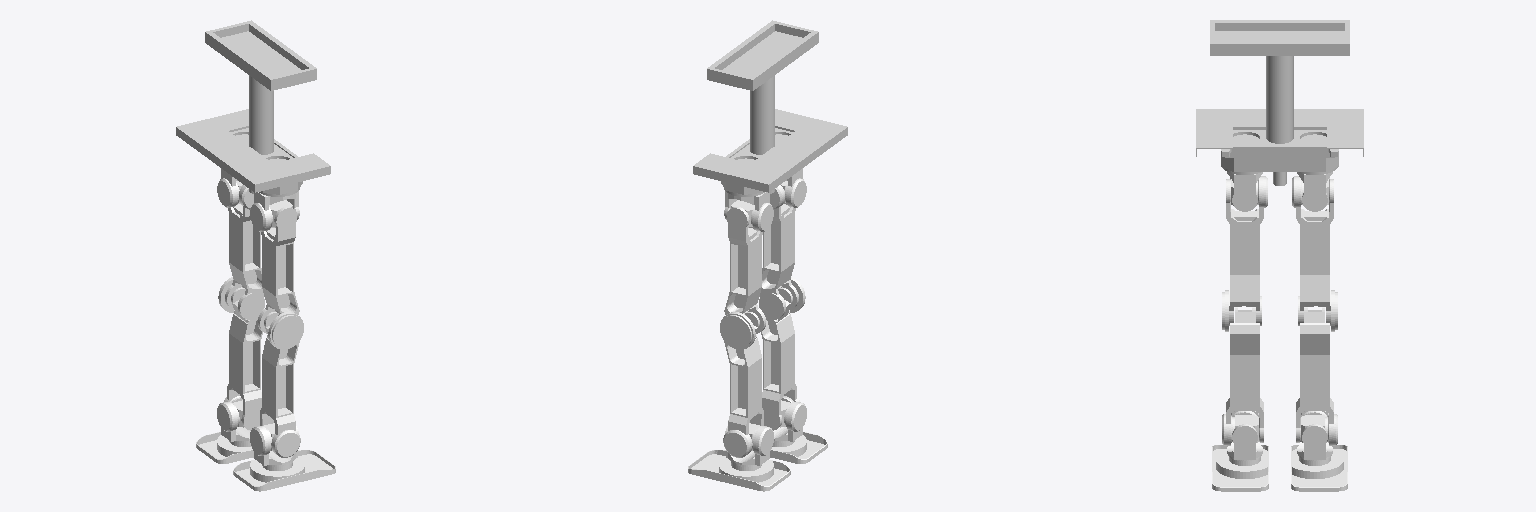
robot.urdf — YSTLEG:
<?xml version="1.0"?>
<robot name="YSTLEG"
       xmlns:xi="http://www.w3.org/2001/XInclude"
       >
  <link name="BODY">
    <visual>
      <origin xyz="0 0 0.8215" rpy="0 -0 0"/>
      <geometry>
        <mesh filename="package://hrpsys_ros_bridge_tutorials/models/YSTLEG_meshes/BODY_mesh.dae" scale="1 1 1" />
      </geometry>
    </visual>
    <collision>
      <origin xyz="0 0 0.8215" rpy="0 -0 0"/>
      <geometry>
        <mesh filename="package://hrpsys_ros_bridge_tutorials/models/YSTLEG_meshes/BODY_mesh.dae" scale="1 1 1" />
      </geometry>
    </collision>
    <inertial>
      <mass value="13.053" />
      <origin xyz="0.00262 -0.0022 0.08295" rpy="0 -0 0"/>
      <inertia ixx="0.362123" ixy="-0.00108" ixz="0.018837" iyy="0.285097" iyz="-0.01338" izz="0.118847"/>
    </inertial>
  </link>
  <gazebo reference="BODY">
    <mu1>0.9</mu1>
    <mu2>0.9</mu2>
  </gazebo>
  <link name="LLEG_LINK0">
    <visual>
      <origin xyz="0 0.08 -0.1255" rpy="0 -0 0"/>
      <geometry>
        <mesh filename="package://hrpsys_ros_bridge_tutorials/models/YSTLEG_meshes/LLEG_LINK0_mesh.dae" scale="1 1 1" />
      </geometry>
    </visual>
    <collision>
      <origin xyz="0 0.08 -0.1255" rpy="0 -0 0"/>
      <geometry>
        <mesh filename="package://hrpsys_ros_bridge_tutorials/models/YSTLEG_meshes/LLEG_LINK0_mesh.dae" scale="1 1 1" />
      </geometry>
    </collision>
    <inertial>
      <mass value="0.965961" />
      <origin xyz="-0.0250761 0.025239 0.022762" rpy="0 -0 0"/>
      <inertia ixx="0.003171" ixy="-0.000746" ixz="-0.000358" iyy="0.002687" iyz="0.000752" izz="0.003681"/>
    </inertial>
  </link>
  <gazebo reference="LLEG_LINK0">
    <mu1>0.9</mu1>
    <mu2>0.9</mu2>
  </gazebo>
  <link name="LLEG_LINK1">
    <visual>
      <origin xyz="0 0 0" rpy="0 -0 0"/>
      <geometry>
        <mesh filename="package://hrpsys_ros_bridge_tutorials/models/YSTLEG_meshes/LLEG_LINK1_mesh.dae" scale="1 1 1" />
      </geometry>
    </visual>
    <collision>
      <origin xyz="0 0 0" rpy="0 -0 0"/>
      <geometry>
        <mesh filename="package://hrpsys_ros_bridge_tutorials/models/YSTLEG_meshes/LLEG_LINK1_mesh.dae" scale="1 1 1" />
      </geometry>
    </collision>
    <inertial>
      <mass value="0.199241" />
      <origin xyz="8e-08 0.00338762 5.55112e-17" rpy="0 -0 0"/>
      <inertia ixx="0.000106" ixy="0" ixz="0" iyy="0.000119" iyz="0" izz="0.000151"/>
    </inertial>
  </link>
  <gazebo reference="LLEG_LINK1">
    <mu1>0.9</mu1>
    <mu2>0.9</mu2>
  </gazebo>
  <link name="LLEG_LINK2">
    <visual>
      <origin xyz="0 0 0" rpy="0 -0 0"/>
      <geometry>
        <mesh filename="package://hrpsys_ros_bridge_tutorials/models/YSTLEG_meshes/LLEG_LINK2_mesh.dae" scale="1 1 1" />
      </geometry>
    </visual>
    <collision>
      <origin xyz="0 0 0" rpy="0 -0 0"/>
      <geometry>
        <mesh filename="package://hrpsys_ros_bridge_tutorials/models/YSTLEG_meshes/LLEG_LINK2_mesh.dae" scale="1 1 1" />
      </geometry>
    </collision>
    <inertial>
      <mass value="2.83852" />
      <origin xyz="0.00726726 0.00769218 -0.183034" rpy="0 -0 0"/>
      <inertia ixx="0.135308" ixy="0.000616" ixz="-0.005472" iyy="0.134398" iyz="-0.010481" izz="0.006904"/>
    </inertial>
  </link>
  <gazebo reference="LLEG_LINK2">
    <mu1>0.9</mu1>
    <mu2>0.9</mu2>
  </gazebo>
  <link name="LLEG_LINK3">
    <visual>
      <origin xyz="0 0 -0.3" rpy="0 -0 0"/>
      <geometry>
        <mesh filename="package://hrpsys_ros_bridge_tutorials/models/YSTLEG_meshes/LLEG_LINK3_mesh.dae" scale="1 1 1" />
      </geometry>
    </visual>
    <collision>
      <origin xyz="0 0 -0.3" rpy="0 -0 0"/>
      <geometry>
        <mesh filename="package://hrpsys_ros_bridge_tutorials/models/YSTLEG_meshes/LLEG_LINK3_mesh.dae" scale="1 1 1" />
      </geometry>
    </collision>
    <inertial>
      <mass value="1.98982" />
      <origin xyz="0.0336965 0.00823049 -0.157839" rpy="0 -0 0"/>
      <inertia ixx="0.07109" ixy="0.000354" ixz="-0.006236" iyy="0.074805" iyz="-0.004063" izz="0.007001"/>
    </inertial>
  </link>
  <gazebo reference="LLEG_LINK3">
    <mu1>0.9</mu1>
    <mu2>0.9</mu2>
  </gazebo>
  <link name="LLEG_LINK4">
    <visual>
      <origin xyz="0 0 -0.3" rpy="0 -0 0"/>
      <geometry>
        <mesh filename="package://hrpsys_ros_bridge_tutorials/models/YSTLEG_meshes/LLEG_LINK4_mesh.dae" scale="1 1 1" />
      </geometry>
    </visual>
    <collision>
      <origin xyz="0 0 -0.3" rpy="0 -0 0"/>
      <geometry>
        <mesh filename="package://hrpsys_ros_bridge_tutorials/models/YSTLEG_meshes/LLEG_LINK4_mesh.dae" scale="1 1 1" />
      </geometry>
    </collision>
    <inertial>
      <mass value="0.199241" />
      <origin xyz="-8e-08 -0.00338762 0" rpy="0 -0 0"/>
      <inertia ixx="0.000106" ixy="0" ixz="0" iyy="0.000119" iyz="0" izz="0.000151"/>
    </inertial>
  </link>
  <gazebo reference="LLEG_LINK4">
    <mu1>0.9</mu1>
    <mu2>0.9</mu2>
  </gazebo>
  <link name="LLEG_LINK5">
    <visual>
      <origin xyz="0 0 0" rpy="0 -0 0"/>
      <geometry>
        <mesh filename="package://hrpsys_ros_bridge_tutorials/models/YSTLEG_meshes/LLEG_LINK5_mesh.dae" scale="1 1 1" />
      </geometry>
    </visual>
    <collision>
      <origin xyz="0 0 0" rpy="0 -0 0"/>
      <geometry>
        <mesh filename="package://hrpsys_ros_bridge_tutorials/models/YSTLEG_meshes/LLEG_LINK5_mesh.dae" scale="1 1 1" />
      </geometry>
    </collision>
    <inertial>
      <mass value="1.87904" />
      <origin xyz="-0.00978746 0.00576015 -0.0539316" rpy="0 -0 0"/>
      <inertia ixx="0.011488" ixy="-0.00054" ixz="-1.4e-05" iyy="0.011398" iyz="-0.000527" izz="0.006769"/>
    </inertial>
  </link>
  <gazebo reference="LLEG_LINK5">
    <mu1>0.9</mu1>
    <mu2>0.9</mu2>
  </gazebo>
  <link name="LLEG_LINK4_2">
    <inertial>
      <mass value="0.01" />
      <origin xyz="-8e-08 0 0" rpy="0 -0 0"/>
      <inertia ixx="0.000106" ixy="0" ixz="0" iyy="0.000119" iyz="0" izz="0.000151"/>
    </inertial>
  </link>
  <gazebo reference="LLEG_LINK4_2">
    <mu1>0.9</mu1>
    <mu2>0.9</mu2>
  </gazebo>
  <link name="RLEG_LINK0">
    <visual>
      <origin xyz="0 -0.08 -0.1255" rpy="0 -0 0"/>
      <geometry>
        <mesh filename="package://hrpsys_ros_bridge_tutorials/models/YSTLEG_meshes/RLEG_LINK0_mesh.dae" scale="1 1 1" />
      </geometry>
    </visual>
    <collision>
      <origin xyz="0 -0.08 -0.1255" rpy="0 -0 0"/>
      <geometry>
        <mesh filename="package://hrpsys_ros_bridge_tutorials/models/YSTLEG_meshes/RLEG_LINK0_mesh.dae" scale="1 1 1" />
      </geometry>
    </collision>
    <inertial>
      <mass value="0.965961" />
      <origin xyz="-0.0250761 -0.025239 0.022762" rpy="0 -0 0"/>
      <inertia ixx="0.003171" ixy="0.000746" ixz="-0.000358" iyy="0.002777" iyz="-0.000752" izz="0.00377"/>
    </inertial>
  </link>
  <gazebo reference="RLEG_LINK0">
    <mu1>0.9</mu1>
    <mu2>0.9</mu2>
  </gazebo>
  <link name="RLEG_LINK1">
    <visual>
      <origin xyz="0 0 0" rpy="0 -0 0"/>
      <geometry>
        <mesh filename="package://hrpsys_ros_bridge_tutorials/models/YSTLEG_meshes/RLEG_LINK1_mesh.dae" scale="1 1 1" />
      </geometry>
    </visual>
    <collision>
      <origin xyz="0 0 0" rpy="0 -0 0"/>
      <geometry>
        <mesh filename="package://hrpsys_ros_bridge_tutorials/models/YSTLEG_meshes/RLEG_LINK1_mesh.dae" scale="1 1 1" />
      </geometry>
    </collision>
    <inertial>
      <mass value="0.199241" />
      <origin xyz="8.4e-08 -0.00338762 5.55112e-17" rpy="0 -0 0"/>
      <inertia ixx="0.000106" ixy="0" ixz="0" iyy="0.000119" iyz="0" izz="0.000151"/>
    </inertial>
  </link>
  <gazebo reference="RLEG_LINK1">
    <mu1>0.9</mu1>
    <mu2>0.9</mu2>
  </gazebo>
  <link name="RLEG_LINK2">
    <visual>
      <origin xyz="0 0 0" rpy="0 -0 0"/>
      <geometry>
        <mesh filename="package://hrpsys_ros_bridge_tutorials/models/YSTLEG_meshes/RLEG_LINK2_mesh.dae" scale="1 1 1" />
      </geometry>
    </visual>
    <collision>
      <origin xyz="0 0 0" rpy="0 -0 0"/>
      <geometry>
        <mesh filename="package://hrpsys_ros_bridge_tutorials/models/YSTLEG_meshes/RLEG_LINK2_mesh.dae" scale="1 1 1" />
      </geometry>
    </collision>
    <inertial>
      <mass value="3.04852" />
      <origin xyz="0.00607187 -0.00826841 -0.186149" rpy="0 -0 0"/>
      <inertia ixx="0.147854" ixy="-0.001089" ixz="-0.00683" iyy="0.147792" iyz="0.011558" izz="0.007825"/>
    </inertial>
  </link>
  <gazebo reference="RLEG_LINK2">
    <mu1>0.9</mu1>
    <mu2>0.9</mu2>
  </gazebo>
  <link name="RLEG_LINK3">
    <visual>
      <origin xyz="0 0 -0.3" rpy="0 -0 0"/>
      <geometry>
        <mesh filename="package://hrpsys_ros_bridge_tutorials/models/YSTLEG_meshes/RLEG_LINK3_mesh.dae" scale="1 1 1" />
      </geometry>
    </visual>
    <collision>
      <origin xyz="0 0 -0.3" rpy="0 -0 0"/>
      <geometry>
        <mesh filename="package://hrpsys_ros_bridge_tutorials/models/YSTLEG_meshes/RLEG_LINK3_mesh.dae" scale="1 1 1" />
      </geometry>
    </collision>
    <inertial>
      <mass value="2.06249" />
      <origin xyz="0.0205231 -0.00805327 -0.166646" rpy="0 -0 0"/>
      <inertia ixx="0.077364" ixy="-0.000302" ixz="-0.004748" iyy="0.078942" iyz="0.004191" izz="0.004672"/>
    </inertial>
  </link>
  <gazebo reference="RLEG_LINK3">
    <mu1>0.9</mu1>
    <mu2>0.9</mu2>
  </gazebo>
  <link name="RLEG_LINK4">
    <visual>
      <origin xyz="0 0 -0.3" rpy="0 -0 0"/>
      <geometry>
        <mesh filename="package://hrpsys_ros_bridge_tutorials/models/YSTLEG_meshes/RLEG_LINK4_mesh.dae" scale="1 1 1" />
      </geometry>
    </visual>
    <collision>
      <origin xyz="0 0 -0.3" rpy="0 -0 0"/>
      <geometry>
        <mesh filename="package://hrpsys_ros_bridge_tutorials/models/YSTLEG_meshes/RLEG_LINK4_mesh.dae" scale="1 1 1" />
      </geometry>
    </collision>
    <inertial>
      <mass value="0.199241" />
      <origin xyz="-8e-08 0.00338762 0" rpy="0 -0 0"/>
      <inertia ixx="0.000106" ixy="0" ixz="0" iyy="0.000119" iyz="0" izz="0.000151"/>
    </inertial>
  </link>
  <gazebo reference="RLEG_LINK4">
    <mu1>0.9</mu1>
    <mu2>0.9</mu2>
  </gazebo>
  <link name="RLEG_LINK5">
    <visual>
      <origin xyz="0 0 0" rpy="0 -0 0"/>
      <geometry>
        <mesh filename="package://hrpsys_ros_bridge_tutorials/models/YSTLEG_meshes/RLEG_LINK5_mesh.dae" scale="1 1 1" />
      </geometry>
    </visual>
    <collision>
      <origin xyz="0 0 0" rpy="0 -0 0"/>
      <geometry>
        <mesh filename="package://hrpsys_ros_bridge_tutorials/models/YSTLEG_meshes/RLEG_LINK5_mesh.dae" scale="1 1 1" />
      </geometry>
    </collision>
    <inertial>
      <mass value="1.94216" />
      <origin xyz="-0.0113344 -0.0164028 -0.0534857" rpy="0 -0 0"/>
      <inertia ixx="0.012487" ixy="0.000888" ixz="9.1e-05" iyy="0.011624" iyz="0.001215" izz="0.007705"/>
    </inertial>
  </link>
  <gazebo reference="RLEG_LINK5">
    <mu1>0.9</mu1>
    <mu2>0.9</mu2>
  </gazebo>
  <link name="RLEG_LINK4_2">
    <inertial>
      <mass value="0.01" />
      <origin xyz="0 0 0" rpy="0 -0 0"/>
      <inertia ixx="0.011488" ixy="-0.00054" ixz="-1.4e-05" iyy="0.011398" iyz="-0.000527" izz="0.006769"/>
    </inertial>
  </link>
  <gazebo reference="RLEG_LINK4_2">
    <mu1>0.9</mu1>
    <mu2>0.9</mu2>
  </gazebo>
  <joint name="LLEG_JOINT0" type="revolute">
    <parent link="BODY"/>
    <child  link="LLEG_LINK0"/>
    <origin xyz="0 0.08 -0.1255" rpy="0 -0 0 "/>
    <axis   xyz="0 0 1"/>
    <limit lower="-0.523599" upper="0.785398" effort="100" velocity="3.54108" />
    <dynamics damping="0.2" friction="0" />
  </joint>
  <transmission type="pr2_mechanism_model/SimpleTransmission" name="LLEG_JOINT0_trans" >
    <actuator name="LLEG_JOINT0_motor" />
    <joint name="LLEG_JOINT0" />
    <mechanicalReduction>1</mechanicalReduction>
  </transmission>
  <gazebo reference="LLEG_JOINT0">
    <cfmDamping>0.4</cfmDamping>
  </gazebo>
  <joint name="LLEG_JOINT1" type="revolute">
    <parent link="LLEG_LINK0"/>
    <child  link="LLEG_LINK1"/>
    <origin xyz="0 0 0" rpy="0 -0 0 "/>
    <axis   xyz="1 0 0"/>
    <limit lower="-0.349066" upper="0.610865" effort="100" velocity="3.80952" />
    <dynamics damping="0.2" friction="0" />
  </joint>
  <transmission type="pr2_mechanism_model/SimpleTransmission" name="LLEG_JOINT1_trans" >
    <actuator name="LLEG_JOINT1_motor" />
    <joint name="LLEG_JOINT1" />
    <mechanicalReduction>1</mechanicalReduction>
  </transmission>
  <gazebo reference="LLEG_JOINT1">
    <cfmDamping>0.4</cfmDamping>
  </gazebo>
  <joint name="LLEG_JOINT2" type="revolute">
    <parent link="LLEG_LINK1"/>
    <child  link="LLEG_LINK2"/>
    <origin xyz="0 0 0" rpy="0 -0 0 "/>
    <axis   xyz="0 1 0"/>
    <limit lower="-2.18166" upper="0.733038" effort="100" velocity="4.42233" />
    <dynamics damping="0.2" friction="0" />
  </joint>
  <transmission type="pr2_mechanism_model/SimpleTransmission" name="LLEG_JOINT2_trans" >
    <actuator name="LLEG_JOINT2_motor" />
    <joint name="LLEG_JOINT2" />
    <mechanicalReduction>1</mechanicalReduction>
  </transmission>
  <gazebo reference="LLEG_JOINT2">
    <cfmDamping>0.4</cfmDamping>
  </gazebo>
  <joint name="LLEG_JOINT3" type="revolute">
    <parent link="LLEG_LINK2"/>
    <child  link="LLEG_LINK3"/>
    <origin xyz="0 0 -0.3" rpy="0 -0 0 "/>
    <axis   xyz="0 1 0"/>
    <limit lower="-0.0349066" upper="2.61799" effort="100" velocity="3.9801" />
    <dynamics damping="0.2" friction="0" />
  </joint>
  <transmission type="pr2_mechanism_model/SimpleTransmission" name="LLEG_JOINT3_trans" >
    <actuator name="LLEG_JOINT3_motor" />
    <joint name="LLEG_JOINT3" />
    <mechanicalReduction>1</mechanicalReduction>
  </transmission>
  <gazebo reference="LLEG_JOINT3">
    <cfmDamping>0.4</cfmDamping>
  </gazebo>
  <joint name="LLEG_JOINT4" type="revolute">
    <parent link="LLEG_LINK3"/>
    <child  link="LLEG_LINK4"/>
    <origin xyz="0 0 -0.3" rpy="0 -0 0 "/>
    <axis   xyz="0 1 0"/>
    <limit lower="-1.309" upper="0.733038" effort="100" velocity="5.07937" />
    <dynamics damping="0.2" friction="0" />
  </joint>
  <transmission type="pr2_mechanism_model/SimpleTransmission" name="LLEG_JOINT4_trans" >
    <actuator name="LLEG_JOINT4_motor" />
    <joint name="LLEG_JOINT4" />
    <mechanicalReduction>1</mechanicalReduction>
  </transmission>
  <gazebo reference="LLEG_JOINT4">
    <cfmDamping>0.4</cfmDamping>
  </gazebo>
  <joint name="LLEG_JOINT5" type="revolute">
    <parent link="LLEG_LINK4"/>
    <child  link="LLEG_LINK5"/>
    <origin xyz="0 0 0" rpy="0 -0 0 "/>
    <axis   xyz="1 0 0"/>
    <limit lower="-0.610865" upper="0.349066" effort="100" velocity="9.14286" />
    <dynamics damping="0.2" friction="0" />
  </joint>
  <transmission type="pr2_mechanism_model/SimpleTransmission" name="LLEG_JOINT5_trans" >
    <actuator name="LLEG_JOINT5_motor" />
    <joint name="LLEG_JOINT5" />
    <mechanicalReduction>1</mechanicalReduction>
  </transmission>
  <gazebo reference="LLEG_JOINT5">
    <cfmDamping>0.4</cfmDamping>
  </gazebo>
  <joint name="LLEG_JOINT4_2" type="revolute">
    <parent link="LLEG_LINK3"/>
    <child  link="LLEG_LINK4_2"/>
    <origin xyz="0 0 -0.3" rpy="0 -0 0 "/>
    <axis   xyz="0 1 0"/>
    <limit lower="-1.309" upper="0.733038" effort="100" velocity="5.07937" />
    <dynamics damping="0.2" friction="0" />
  </joint>
  <transmission type="pr2_mechanism_model/SimpleTransmission" name="LLEG_JOINT4_2_trans" >
    <actuator name="LLEG_JOINT4_2_motor" />
    <joint name="LLEG_JOINT4_2" />
    <mechanicalReduction>1</mechanicalReduction>
  </transmission>
  <gazebo reference="LLEG_JOINT4_2">
    <cfmDamping>0.4</cfmDamping>
  </gazebo>
  <joint name="RLEG_JOINT0" type="revolute">
    <parent link="BODY"/>
    <child  link="RLEG_LINK0"/>
    <origin xyz="0 -0.08 -0.1255" rpy="0 -0 0 "/>
    <axis   xyz="0 0 1"/>
    <limit lower="-0.785398" upper="0.523599" effort="100" velocity="3.54108" />
    <dynamics damping="0.2" friction="0" />
  </joint>
  <transmission type="pr2_mechanism_model/SimpleTransmission" name="RLEG_JOINT0_trans" >
    <actuator name="RLEG_JOINT0_motor" />
    <joint name="RLEG_JOINT0" />
    <mechanicalReduction>1</mechanicalReduction>
  </transmission>
  <gazebo reference="RLEG_JOINT0">
    <cfmDamping>0.4</cfmDamping>
  </gazebo>
  <joint name="RLEG_JOINT1" type="revolute">
    <parent link="RLEG_LINK0"/>
    <child  link="RLEG_LINK1"/>
    <origin xyz="0 0 0" rpy="0 -0 0 "/>
    <axis   xyz="1 0 0"/>
    <limit lower="-0.610865" upper="0.349066" effort="100" velocity="3.80952" />
    <dynamics damping="0.2" friction="0" />
  </joint>
  <transmission type="pr2_mechanism_model/SimpleTransmission" name="RLEG_JOINT1_trans" >
    <actuator name="RLEG_JOINT1_motor" />
    <joint name="RLEG_JOINT1" />
    <mechanicalReduction>1</mechanicalReduction>
  </transmission>
  <gazebo reference="RLEG_JOINT1">
    <cfmDamping>0.4</cfmDamping>
  </gazebo>
  <joint name="RLEG_JOINT2" type="revolute">
    <parent link="RLEG_LINK1"/>
    <child  link="RLEG_LINK2"/>
    <origin xyz="0 0 0" rpy="0 -0 0 "/>
    <axis   xyz="0 1 0"/>
    <limit lower="-2.18166" upper="0.733038" effort="100" velocity="4.42233" />
    <dynamics damping="0.2" friction="0" />
  </joint>
  <transmission type="pr2_mechanism_model/SimpleTransmission" name="RLEG_JOINT2_trans" >
    <actuator name="RLEG_JOINT2_motor" />
    <joint name="RLEG_JOINT2" />
    <mechanicalReduction>1</mechanicalReduction>
  </transmission>
  <gazebo reference="RLEG_JOINT2">
    <cfmDamping>0.4</cfmDamping>
  </gazebo>
  <joint name="RLEG_JOINT3" type="revolute">
    <parent link="RLEG_LINK2"/>
    <child  link="RLEG_LINK3"/>
    <origin xyz="0 0 -0.3" rpy="0 -0 0 "/>
    <axis   xyz="0 1 0"/>
    <limit lower="-0.0349066" upper="2.61799" effort="100" velocity="3.9801" />
    <dynamics damping="0.2" friction="0" />
  </joint>
  <transmission type="pr2_mechanism_model/SimpleTransmission" name="RLEG_JOINT3_trans" >
    <actuator name="RLEG_JOINT3_motor" />
    <joint name="RLEG_JOINT3" />
    <mechanicalReduction>1</mechanicalReduction>
  </transmission>
  <gazebo reference="RLEG_JOINT3">
    <cfmDamping>0.4</cfmDamping>
  </gazebo>
  <joint name="RLEG_JOINT4" type="revolute">
    <parent link="RLEG_LINK3"/>
    <child  link="RLEG_LINK4"/>
    <origin xyz="0 0 -0.3" rpy="0 -0 0 "/>
    <axis   xyz="0 1 0"/>
    <limit lower="-1.309" upper="0.733038" effort="100" velocity="5.07937" />
    <dynamics damping="0.2" friction="0" />
  </joint>
  <transmission type="pr2_mechanism_model/SimpleTransmission" name="RLEG_JOINT4_trans" >
    <actuator name="RLEG_JOINT4_motor" />
    <joint name="RLEG_JOINT4" />
    <mechanicalReduction>1</mechanicalReduction>
  </transmission>
  <gazebo reference="RLEG_JOINT4">
    <cfmDamping>0.4</cfmDamping>
  </gazebo>
  <joint name="RLEG_JOINT5" type="revolute">
    <parent link="RLEG_LINK4"/>
    <child  link="RLEG_LINK5"/>
    <origin xyz="0 0 0" rpy="0 -0 0 "/>
    <axis   xyz="1 0 0"/>
    <limit lower="-0.349066" upper="0.610865" effort="100" velocity="9.14286" />
    <dynamics damping="0.2" friction="0" />
  </joint>
  <transmission type="pr2_mechanism_model/SimpleTransmission" name="RLEG_JOINT5_trans" >
    <actuator name="RLEG_JOINT5_motor" />
    <joint name="RLEG_JOINT5" />
    <mechanicalReduction>1</mechanicalReduction>
  </transmission>
  <gazebo reference="RLEG_JOINT5">
    <cfmDamping>0.4</cfmDamping>
  </gazebo>
  <joint name="RLEG_JOINT4_2" type="revolute">
    <parent link="RLEG_LINK3"/>
    <child  link="RLEG_LINK4_2"/>
    <origin xyz="0 0 -0.3" rpy="0 -0 0 "/>
    <axis   xyz="0 1 0"/>
    <limit lower="-1.309" upper="0.733038" effort="100" velocity="5.07937" />
    <dynamics damping="0.2" friction="0" />
  </joint>
  <transmission type="pr2_mechanism_model/SimpleTransmission" name="RLEG_JOINT4_2_trans" >
    <actuator name="RLEG_JOINT4_2_motor" />
    <joint name="RLEG_JOINT4_2" />
    <mechanicalReduction>1</mechanicalReduction>
  </transmission>
  <gazebo reference="RLEG_JOINT4_2">
    <cfmDamping>0.4</cfmDamping>
  </gazebo>
</robot>

--- Render facts (derived) ---
3 views of the same robot in one strip: view 1: azimuth 30°, elevation 25°; view 2: azimuth 150°, elevation 25°; view 3: azimuth 270°, elevation 25° (orthographic).
Model YSTLEG with 15 links and 14 joints (14 revolute), rooted at BODY, posed all joints at 0.
Visible links, largest first — view 1: BODY, RLEG_LINK2, LLEG_LINK2, RLEG_LINK3, LLEG_LINK3, RLEG_LINK5, LLEG_LINK5, RLEG_LINK0, LLEG_LINK0; view 2: BODY, LLEG_LINK2, RLEG_LINK2, LLEG_LINK3, RLEG_LINK3, LLEG_LINK5, RLEG_LINK5, LLEG_LINK0, RLEG_LINK0; view 3: BODY, LLEG_LINK2, RLEG_LINK2, LLEG_LINK3, RLEG_LINK3, LLEG_LINK5, RLEG_LINK5, LLEG_LINK0, RLEG_LINK0.
Link boxes in pixels (x1,y1,x2,y2): BODY: [176, 20, 330, 196]; RLEG_LINK2: [258, 207, 303, 349]; LLEG_LINK2: [218, 185, 264, 319]; RLEG_LINK3: [260, 312, 300, 457]; LLEG_LINK3: [224, 287, 262, 430]; RLEG_LINK5: [233, 426, 335, 491]; LLEG_LINK5: [196, 402, 253, 463]; RLEG_LINK0: [250, 191, 299, 231]; LLEG_LINK0: [217, 168, 239, 207]; BODY: [693, 20, 847, 196]; LLEG_LINK2: [720, 207, 765, 349]; RLEG_LINK2: [759, 185, 805, 319]; LLEG_LINK3: [723, 312, 763, 457]; RLEG_LINK3: [761, 287, 799, 430]; LLEG_LINK5: [688, 426, 790, 491]; RLEG_LINK5: [770, 402, 827, 463]; LLEG_LINK0: [724, 191, 773, 231]; RLEG_LINK0: [784, 168, 806, 207]; BODY: [1196, 20, 1363, 185]; LLEG_LINK2: [1292, 176, 1337, 331]; RLEG_LINK2: [1222, 176, 1267, 331]; LLEG_LINK3: [1296, 307, 1337, 445]; RLEG_LINK3: [1222, 307, 1263, 445]; LLEG_LINK5: [1291, 411, 1347, 491]; RLEG_LINK5: [1212, 411, 1268, 491]; LLEG_LINK0: [1297, 172, 1332, 211]; RLEG_LINK0: [1227, 172, 1262, 211].
Size in the robot's own frame: 0.258 by 0.384 by 1.1 metres.
13 mesh visuals loaded from 13 distinct referenced files (13 Collada DAE).